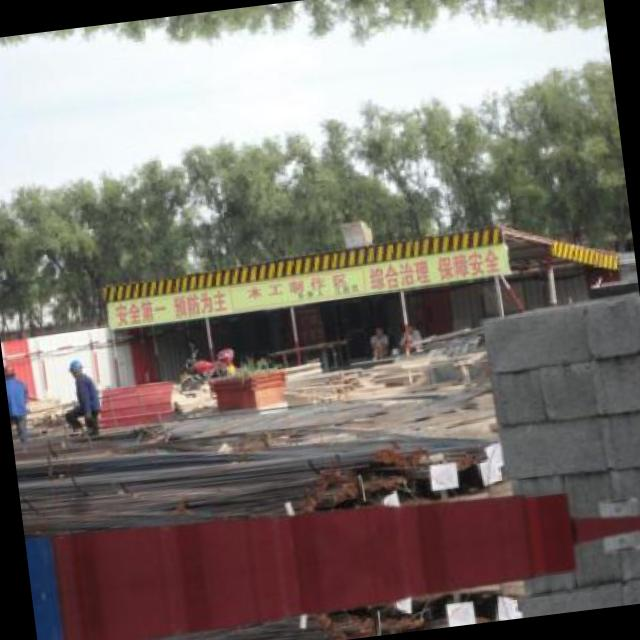helmet: (66, 356, 82, 375), (5, 365, 15, 379)
